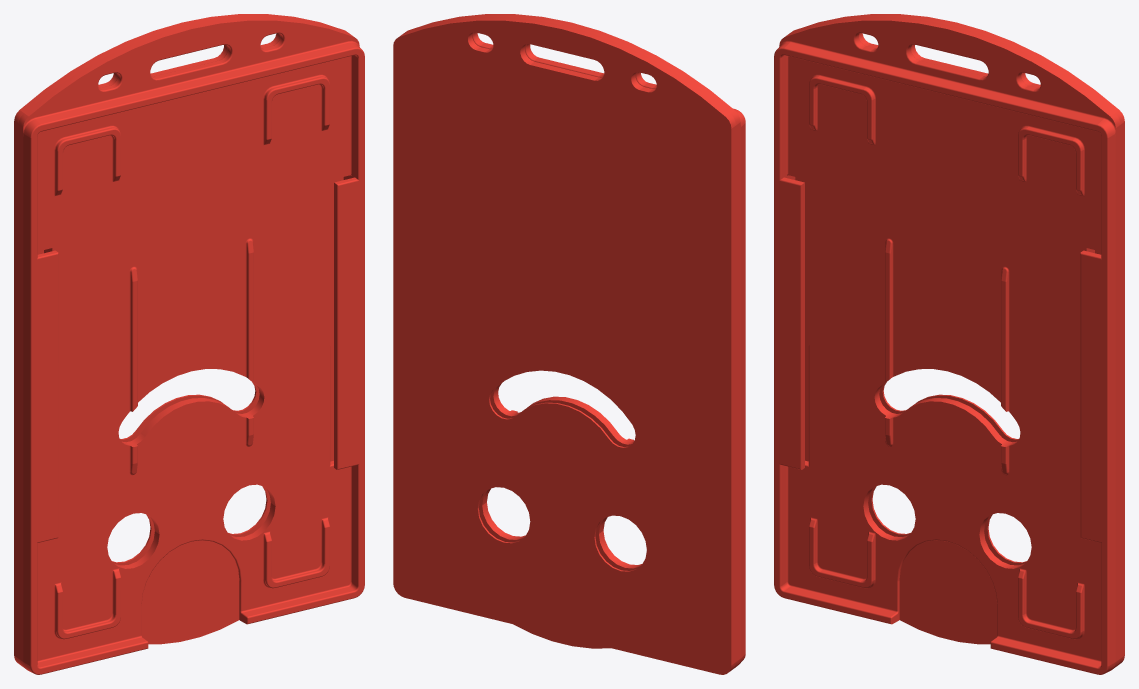
Rendered from mesnap_red.glb.
The picture shows the model from 3 angles, left to right: view 1: azimuth 30°, elevation 25°; view 2: azimuth 150°, elevation 25°; view 3: azimuth 330°, elevation 25°; orthographic projection.
Visible parts, largest first — view 1: 3f362596-a984-4295-8b26-834642958372; view 2: 3f362596-a984-4295-8b26-834642958372; view 3: 3f362596-a984-4295-8b26-834642958372.
Part boxes in pixels (left/top/right/bottom): 3f362596-a984-4295-8b26-834642958372: left=14, top=14, right=364, bottom=674; 3f362596-a984-4295-8b26-834642958372: left=393, top=14, right=745, bottom=674; 3f362596-a984-4295-8b26-834642958372: left=774, top=14, right=1124, bottom=674.
Bounding box in the file's own units: 58.01 × 101 × 4.72.
